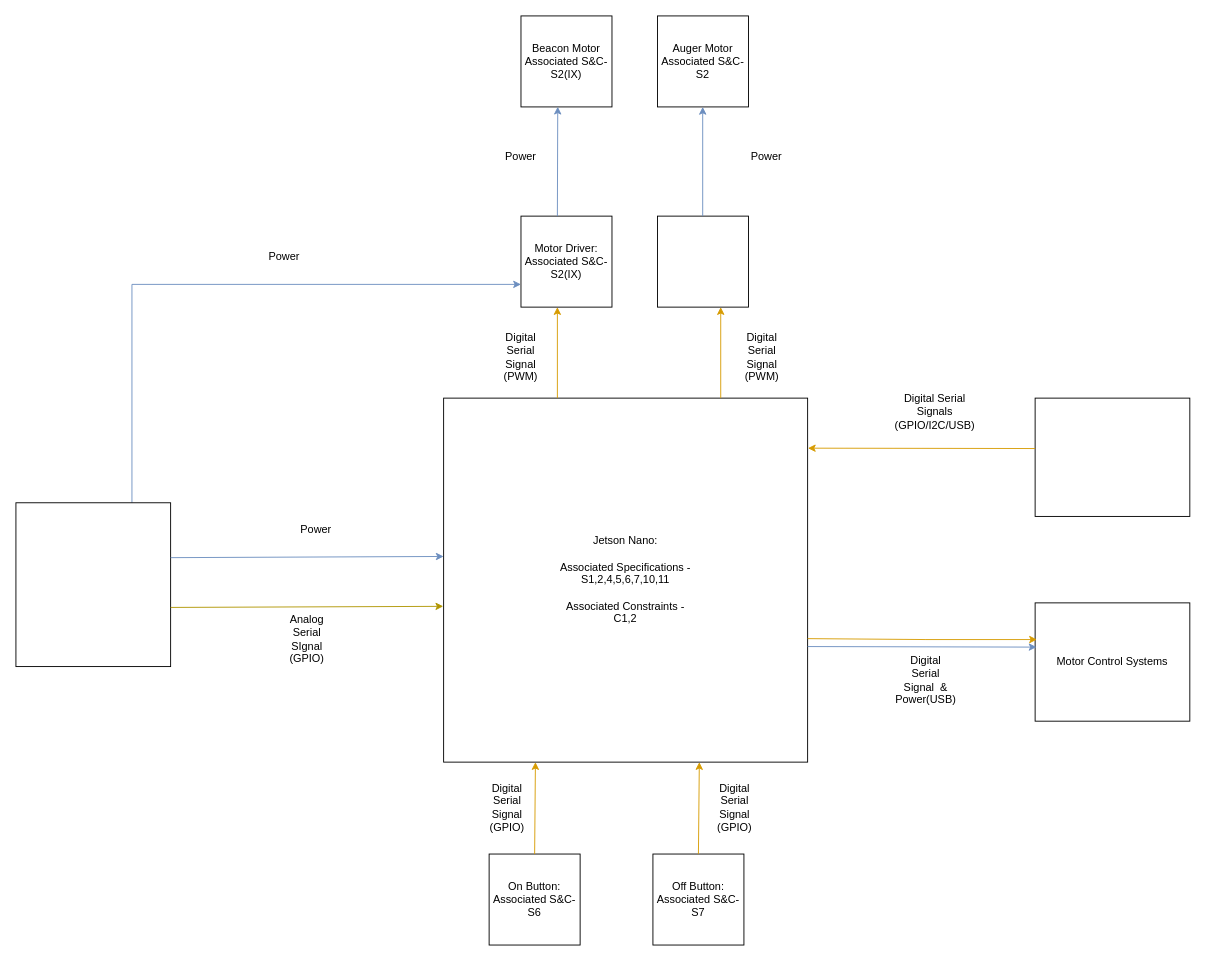
The diagram is 1206 pixels wide and 961 high, and some of its shapes have lost their labels. The shapes that lost their labels are listed below. From the top down, each one's centre as x and y in pixels, then its label:
point (702, 261): Motor Driver: Associated S&C- S2
point (1112, 456): Sensor Systems
point (93, 584): Power Systems
